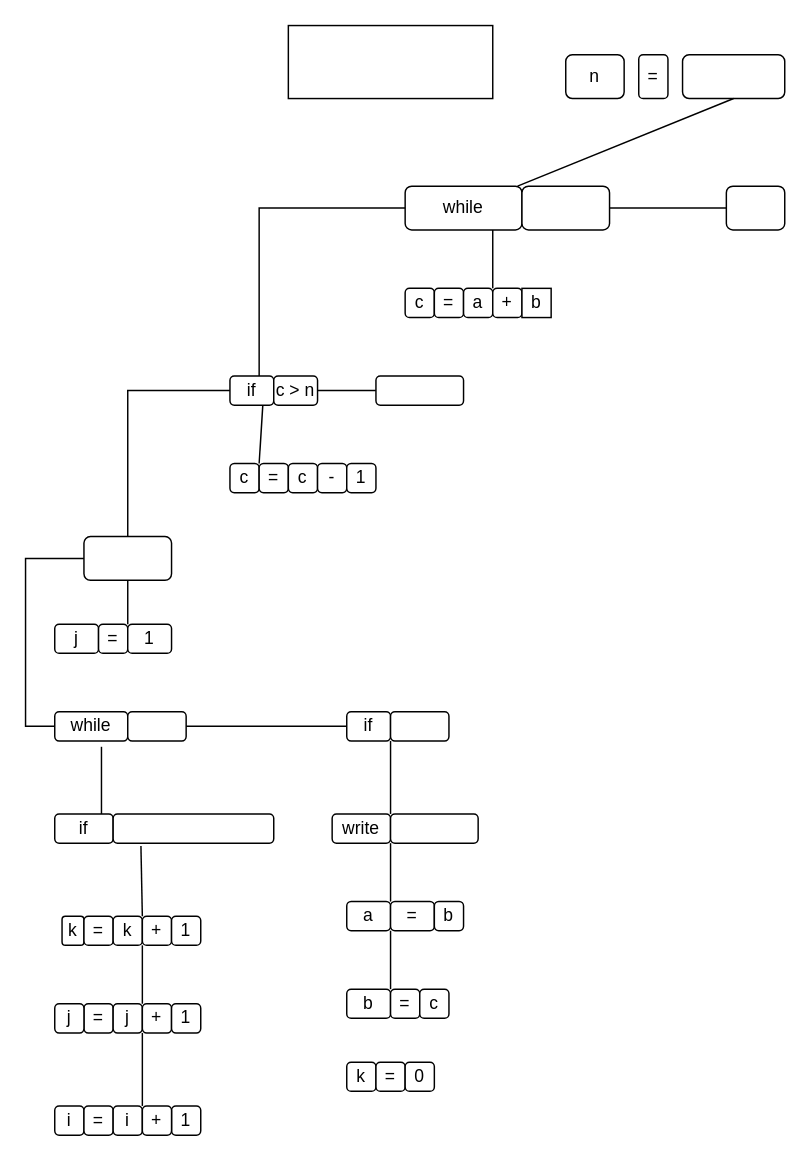
Image size: 810x1161. Some labels were removed from this diagram. Here are the shapes that lost their labels. From the top down, the centre of each, then its label:
the point at 390,61: a=0; b=1; c=0; i=1; k=0;
the point at 733,76: readint();
the point at 565,207: i <= n
the point at 419,389: break
the point at 127,557: else
the point at 156,725: j <= c
the point at 419,725: k == 2
the point at 193,827: c % j == o
the point at 433,827: c + "/t"
